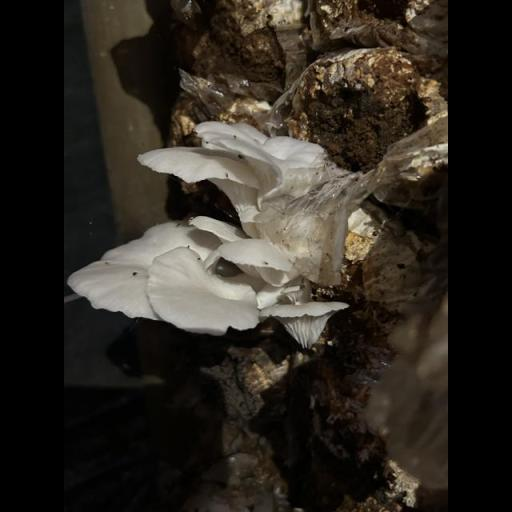White Oyster Mushroom: (63, 213, 354, 359), (133, 111, 338, 208)
